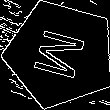M_E: (28, 25, 92, 84)
